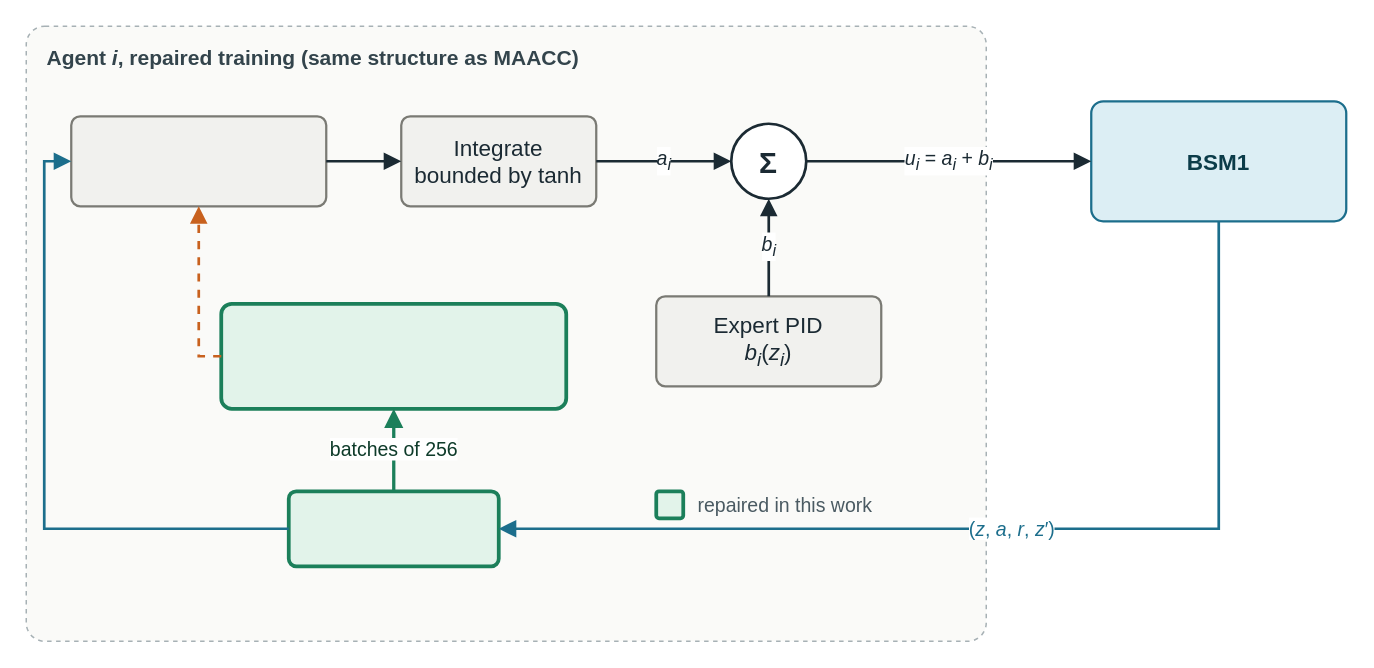
This 1374x668 diagram has some shape labels left out. The centre of each missing label's shape, as x and y in pixels:
"Action network last layer starts at 0" belongs at (198,160).
"Replay buffer" belongs at (393,528).
"Twin critics + target nets actor updated every 2nd step" belongs at (393,355).
